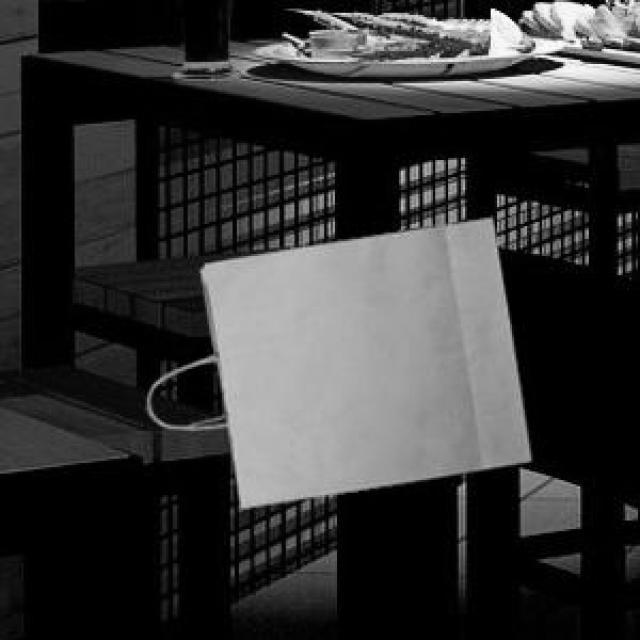paper: (144, 213, 527, 504)
